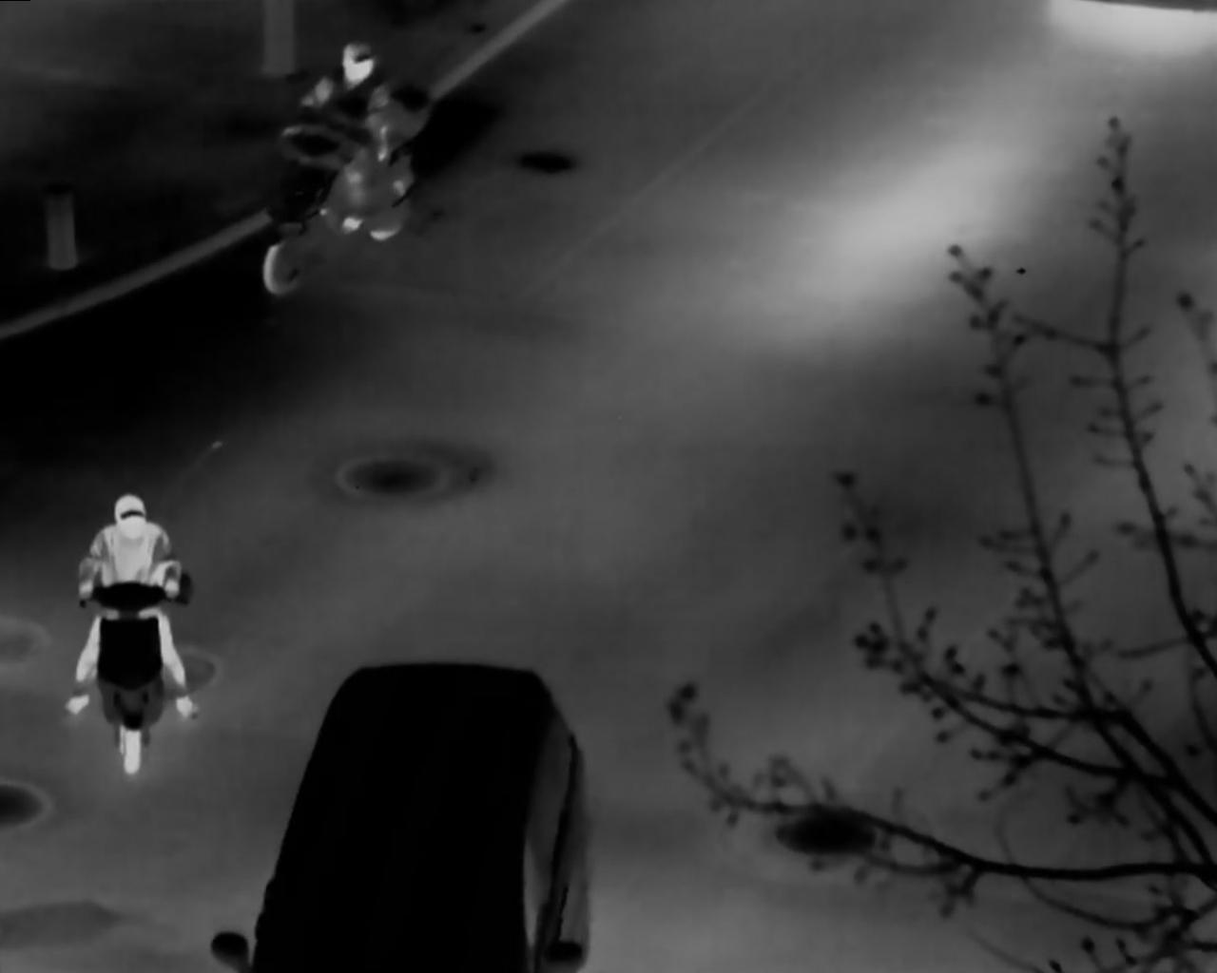person: (82, 488, 179, 730), (305, 43, 402, 237)
